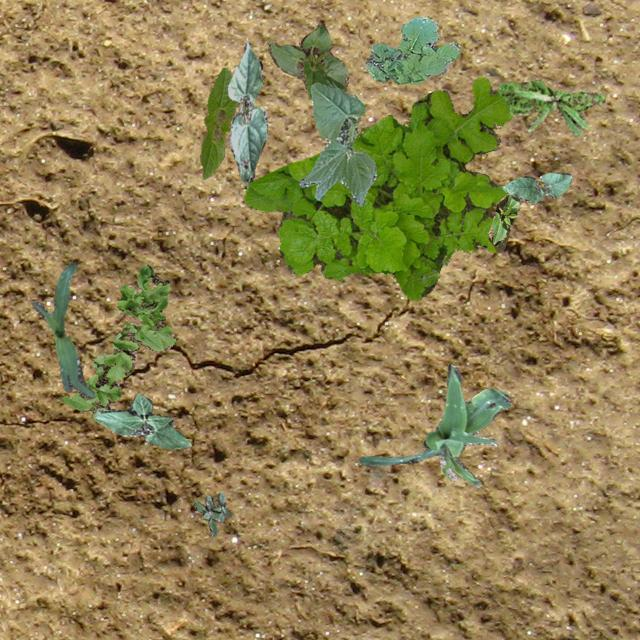crop: (358, 362, 509, 486), (298, 82, 376, 205), (30, 262, 94, 398), (266, 22, 348, 98), (226, 42, 266, 182), (92, 392, 190, 448), (198, 66, 238, 178), (502, 172, 570, 202), (488, 192, 520, 245)
weed: (242, 76, 510, 300), (59, 264, 174, 428), (364, 17, 460, 82), (496, 78, 604, 134), (192, 492, 230, 536)
